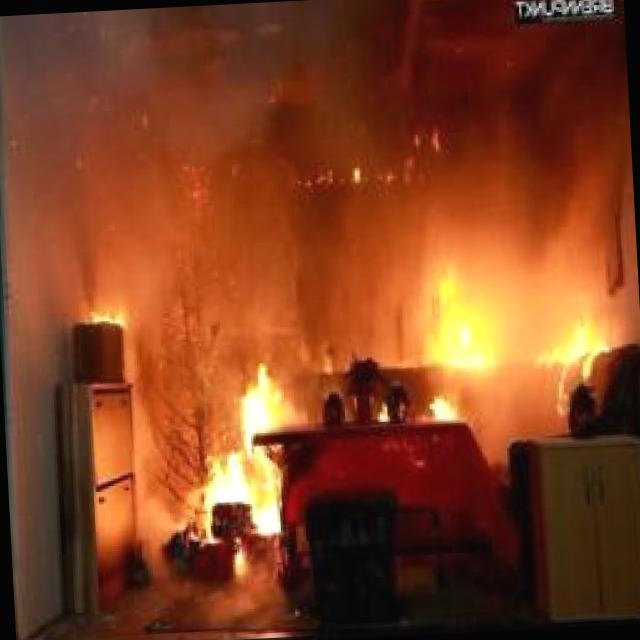fire: (168, 225, 628, 538)
